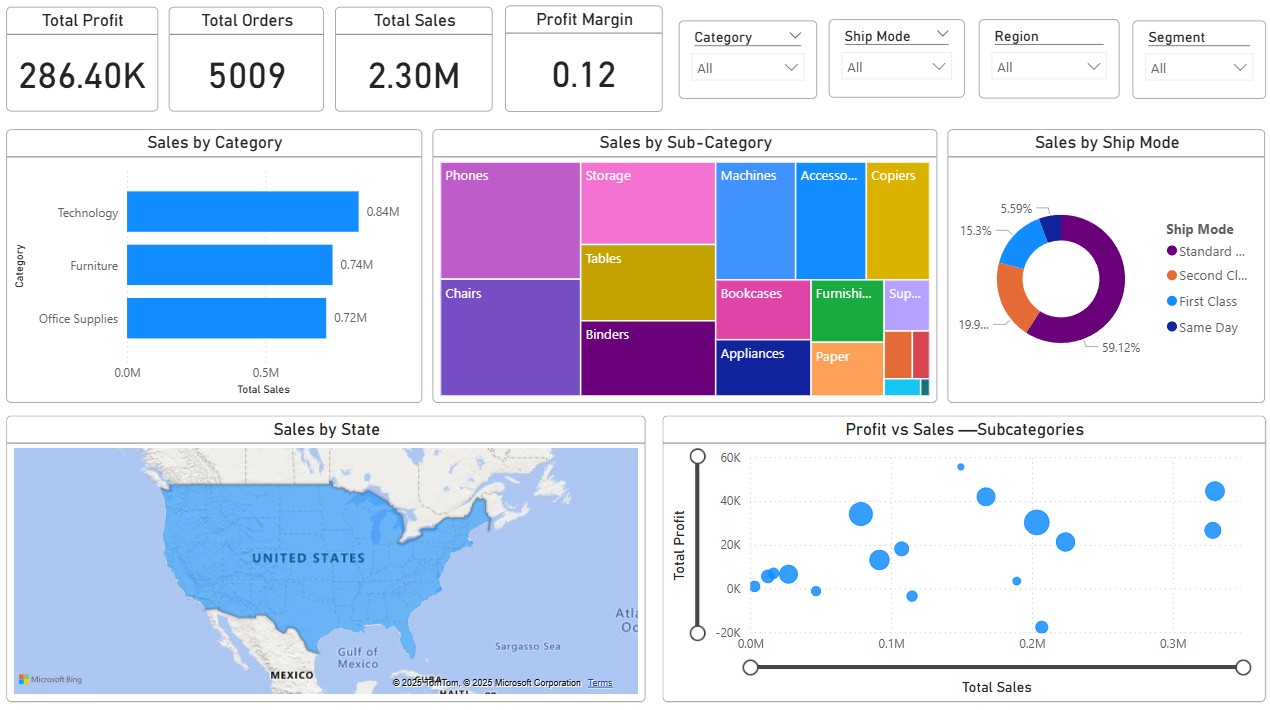

This screenshot's page, from the dashboard's own definition file:
{"tool":"powerbi","page":{"name":"Superstore Dashboard","canvas":[1280,720],"ordinal":0},"visuals":[{"type":"card","title":"Total Profit","fields":{"Values":["Sample - Superstore.Total Profit"]},"box":[11,13.5,151.6,105.2],"z":0},{"type":"card","title":"Total Sales","fields":{"Values":["Sample - Superstore.Total Sales"]},"box":[339.9,13.5,157.7,105.2],"z":1},{"type":"card","title":"Profit Margin","fields":{"Values":["Sample - Superstore.Profit Margin"]},"box":[509.9,12.2,157.7,106.4],"z":2},{"type":"card","title":"Total Orders","fields":{"Values":["Sample - Superstore.Total Orders"]},"box":[173.6,13.5,155.3,105.2],"z":3},{"type":"slicer","fields":{"Values":["Sample - Superstore.Category"]},"box":[683.6,26.9,138.2,78.3],"z":4},{"type":"slicer","fields":{"Values":["Sample - Superstore.Ship Mode"]},"box":[834,25.7,135.7,78.3],"z":5},{"type":"slicer","fields":{"Values":["Sample - Superstore.Region"]},"box":[983.2,25.7,140.6,79.5],"z":6},{"type":"slicer","fields":{"Values":["Sample - Superstore.Segment"]},"box":[1137.2,26.9,133.3,78.3],"z":7},{"type":"scatterChart","title":"Profit vs Sales —Subcategories","fields":{"X":["Sample - Superstore.Total Sales"],"Y":["Sample - Superstore.Total Profit"],"Category":["Sample - Superstore.Sub-Category"],"Size":["Sum(Sample - Superstore.Quantity)"]},"box":[667.7,421.9,602.9,286.1],"z":8},{"type":"filledMap","title":"Sales by State","fields":{"Category":["Sample - Superstore.State"]},"box":[11,421.9,639.5,286.1],"z":9},{"type":"treemap","title":"Sales by Sub-Category","fields":{"Group":["Sample - Superstore.Sub-Category"],"Values":["Sample - Superstore.Total Sales"]},"box":[437.8,135.7,505,273.9],"z":10},{"type":"clusteredBarChart","title":" Sales by Category","fields":{"Category":["Sample - Superstore.Category"],"Y":["Sample - Superstore.Total Sales"]},"box":[11,135.7,415.8,273.9],"z":11},{"type":"donutChart","title":" Sales by Ship Mode","fields":{"Category":["Sample - Superstore.Ship Mode"],"Y":["Sample - Superstore.Total Sales"]},"box":[952.6,135.7,317.9,273.9],"z":12}]}

Visuals, with their boxes in screenshot pixels (x1, y1, x2, y2), scaled from the page's 1280x720 canvas onto the 1270x710 screenshot:
"Total Profit" card: Rect(11, 13, 161, 117)
"Total Sales" card: Rect(337, 13, 494, 117)
"Profit Margin" card: Rect(506, 12, 662, 117)
"Total Orders" card: Rect(172, 13, 326, 117)
slicer - Sample - Superstore.Category: Rect(678, 27, 815, 104)
slicer - Sample - Superstore.Ship Mode: Rect(827, 25, 962, 103)
slicer - Sample - Superstore.Region: Rect(976, 25, 1115, 104)
slicer - Sample - Superstore.Segment: Rect(1128, 27, 1261, 104)
"Profit vs Sales —Subcategories" scatterChart: Rect(662, 416, 1261, 698)
"Sales by State" filledMap: Rect(11, 416, 645, 698)
"Sales by Sub-Category" treemap: Rect(434, 134, 935, 404)
" Sales by Category" clusteredBarChart: Rect(11, 134, 423, 404)
" Sales by Ship Mode" donutChart: Rect(945, 134, 1261, 404)
